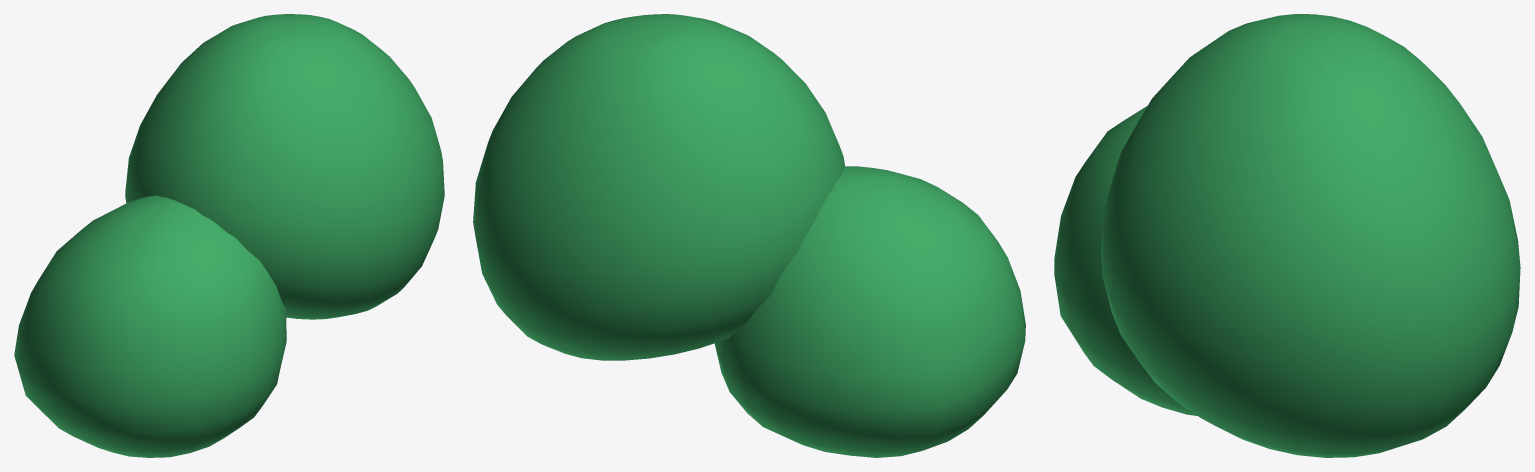
Rendered from Tree_Top_B_03.fbx.
3 renders of one model, left to right at view 1: azimuth 30°, elevation 25°; view 2: azimuth 150°, elevation 25°; view 3: azimuth 270°, elevation 25°, orthographic. The views are drawn at different scales.
Parts seen in each view (by area): view 1: Tree_Top_B_03_LOD0; view 2: Tree_Top_B_03_LOD0; view 3: Tree_Top_B_03_LOD0.
Part boxes in pixels (bbox=[...]): Tree_Top_B_03_LOD0: bbox=[14, 14, 444, 457]; Tree_Top_B_03_LOD0: bbox=[473, 14, 1025, 457]; Tree_Top_B_03_LOD0: bbox=[1054, 14, 1520, 457].
Size of what is drawn, in the model's own units: 962 by 757 by 691.
